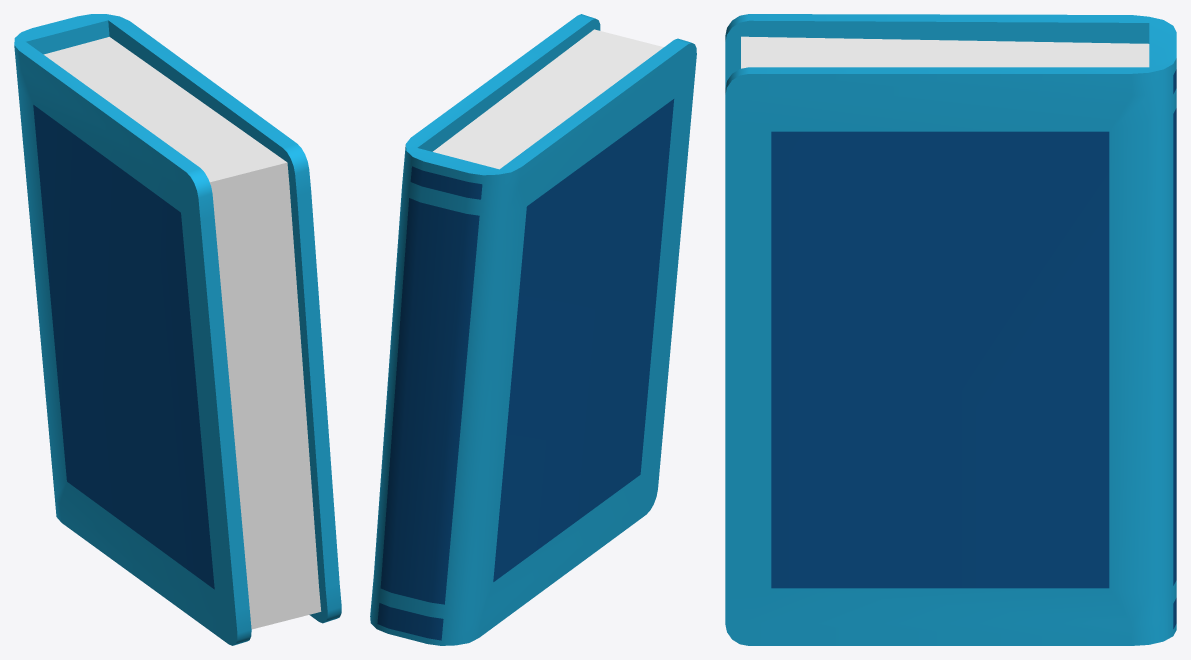
Rendered from book_29.fbx.
The picture shows the model from 3 angles, left to right: view 1: azimuth 30°, elevation 25°; view 2: azimuth 150°, elevation 25°; view 3: azimuth 270°, elevation 25°; orthographic projection. The views are drawn at different scales.
Parts seen in each view (by area): view 1: book_29; view 2: book_29; view 3: book_29.
Boxes of the visible parts, x1,y1,x2,y2 form: book_29: (14, 14, 341, 645); book_29: (370, 14, 696, 645); book_29: (725, 14, 1176, 645).
Bounding box in the file's own units: 0.1097 × 0.347 × 0.2557.
